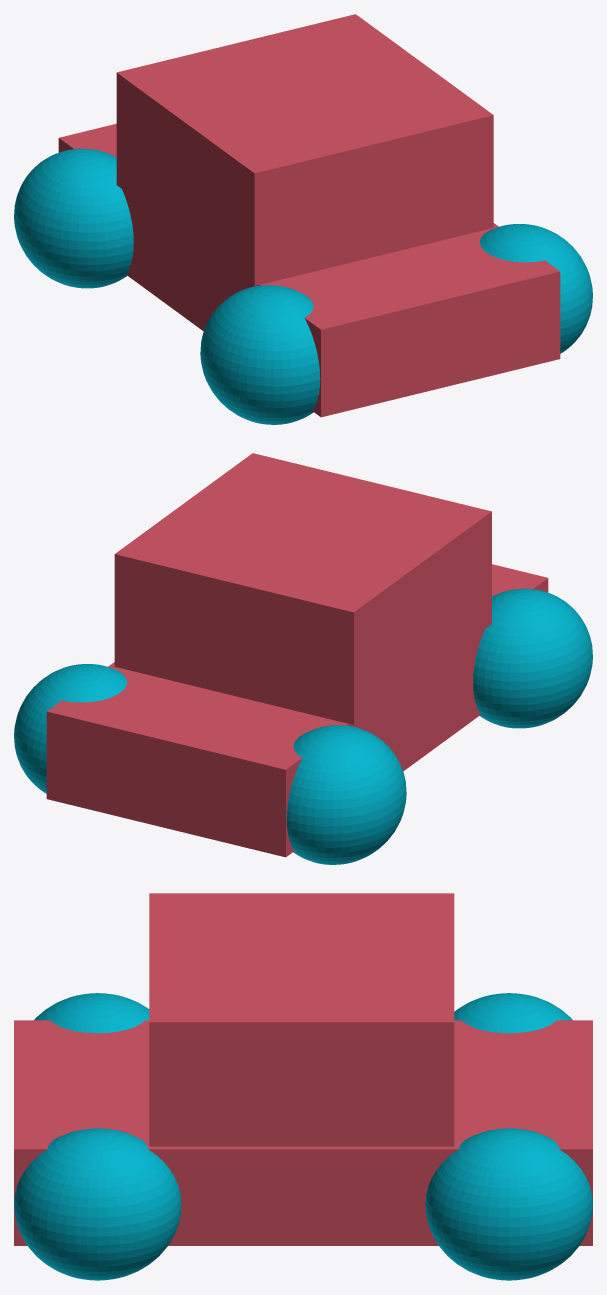
File: machinka.glb
3 renders of one model, top to bottom at view 1: azimuth 30°, elevation 25°; view 2: azimuth 150°, elevation 25°; view 3: azimuth 270°, elevation 25°, orthographic. The views are drawn at different scales.
Parts seen in each view (by area): view 1: Mesh_Mesh_head_geo.001_lambert2SG.001; view 2: Mesh_Mesh_head_geo.001_lambert2SG.001; view 3: Mesh_Mesh_head_geo.001_lambert2SG.001.
Part boxes in pixels (x1,y1,x2,y2): Mesh_Mesh_head_geo.001_lambert2SG.001: (14,14,592,424); Mesh_Mesh_head_geo.001_lambert2SG.001: (14,453,592,864); Mesh_Mesh_head_geo.001_lambert2SG.001: (14,893,592,1280).
Size of the model in its own units: 31 by 18 by 38.
